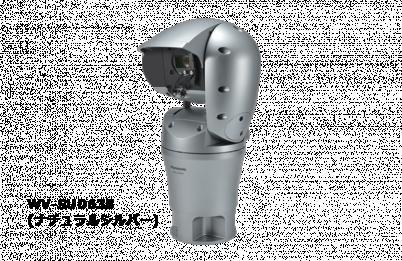tutu: (138, 16, 263, 246)
